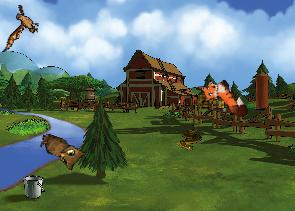eagle: (3, 4, 39, 51)
fox: (192, 69, 251, 131)
owl: (34, 132, 87, 173)
